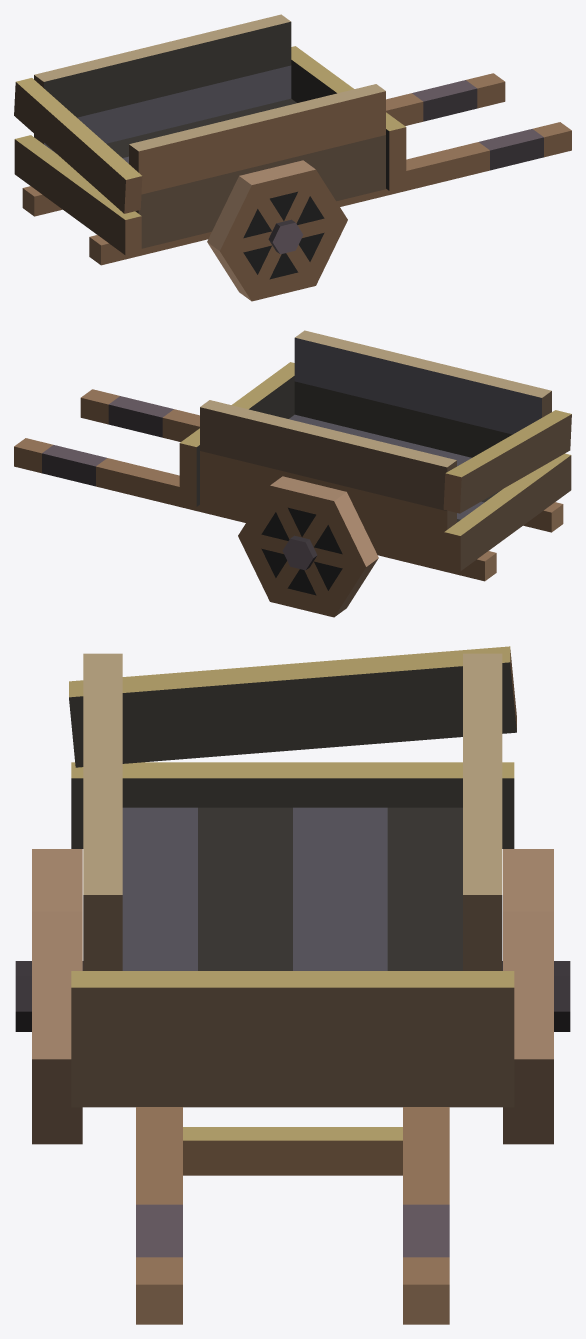
Rendered from TB_D_Prop_Wagon_A.FBX.
3 views of the same model, one above another, from view 1: azimuth 30°, elevation 25°; view 2: azimuth 150°, elevation 25°; view 3: azimuth 270°, elevation 25° (orthographic). The views are drawn at different scales.
Parts seen in each view (by area): view 1: TB_D_Prop_Wagon_A, TB_D_Prop_WagonWheel_A; view 2: TB_D_Prop_Wagon_A, TB_D_Prop_WagonWheel_A; view 3: TB_D_Prop_Wagon_A, TB_D_Prop_WagonWheel_A.
Part boxes in pixels (x1=…): TB_D_Prop_Wagon_A: x1=14, y1=14, x2=571, y2=265; TB_D_Prop_WagonWheel_A: x1=207, y1=160, x2=347, y2=301; TB_D_Prop_Wagon_A: x1=14, y1=330, x2=571, y2=581; TB_D_Prop_WagonWheel_A: x1=238, y1=476, x2=378, y2=617; TB_D_Prop_Wagon_A: x1=15, y1=646, x2=570, y2=1324; TB_D_Prop_WagonWheel_A: x1=32, y1=849, x2=553, y2=1144.
Size of the model in its own units: 5.57 by 1.87 by 2.84.
